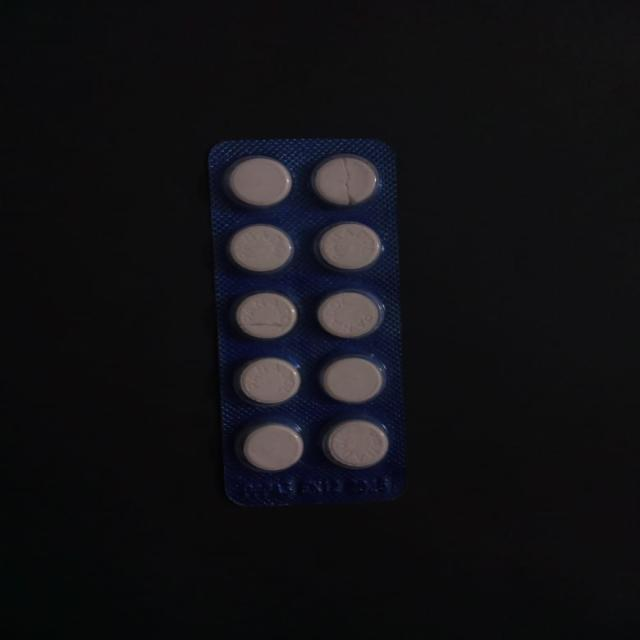defect: (306, 152, 384, 210), (230, 290, 302, 343)
